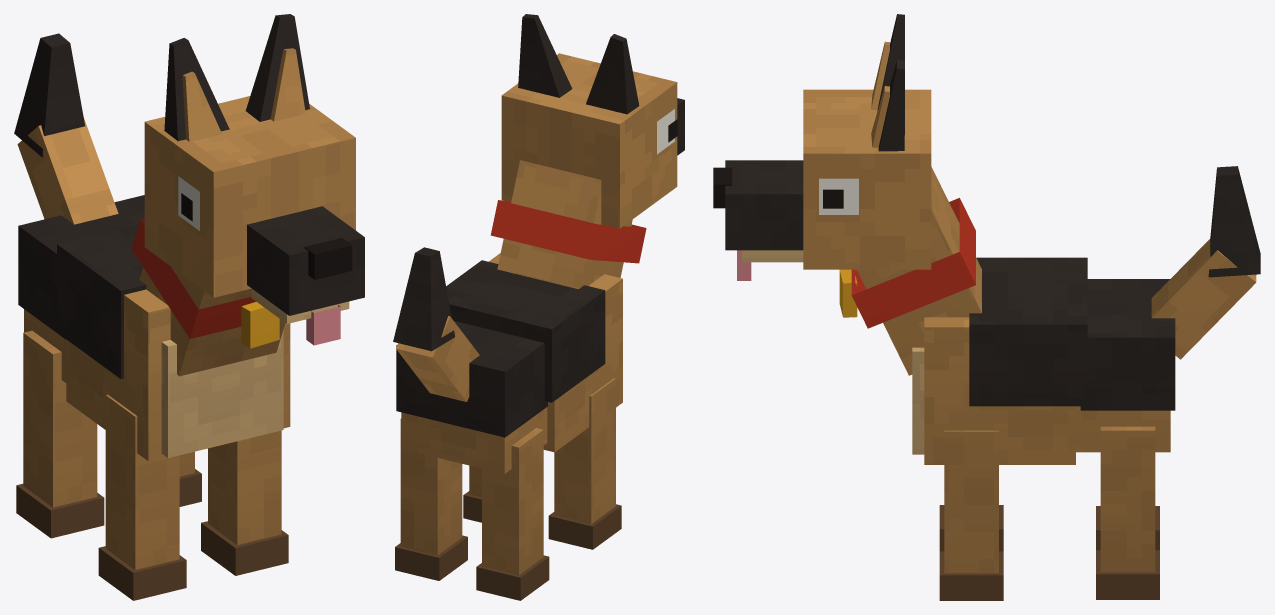
File: animal_dog.glb
3 views of the same model, side by side, from view 1: azimuth 30°, elevation 25°; view 2: azimuth 150°, elevation 25°; view 3: azimuth 270°, elevation 25° (orthographic). The views are drawn at different scales.
Parts seen in each view (by area): view 1: animal_dog, leg_fr, leg_br, sway_tail, leg_fl, leg_bl; view 2: animal_dog, leg_br, leg_fr, leg_bl, sway_tail, leg_fl; view 3: animal_dog, leg_bl, leg_fl, sway_tail.
Boxes of the visible parts, x1,y1,x2,y2 form: animal_dog: (18,14,364,461); leg_fr: (98,394,186,600); leg_br: (16,330,104,538); sway_tail: (14,33,118,224); leg_fl: (201,430,288,575); leg_bl: (179,451,201,506); animal_dog: (396,14,684,473); leg_br: (476,428,549,600); leg_fr: (548,378,621,549); leg_bl: (395,418,467,580); sway_tail: (393,247,479,401); leg_fl: (463,465,481,522); animal_dog: (713,14,1175,464); leg_bl: (1096,426,1159,599); leg_fl: (939,430,1003,600); sway_tail: (1151,166,1260,359).
Bounding box in the file's own units: 0.368 × 1.23 × 1.15.
Materials: 10 (3 with a texture image).
